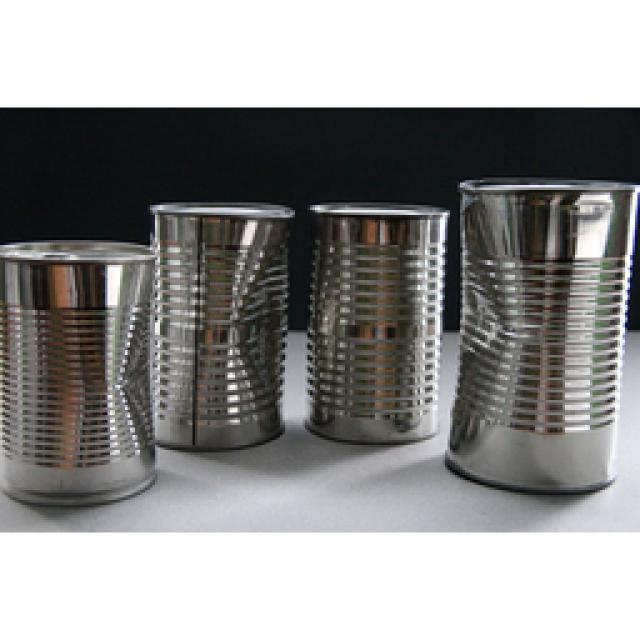alumunium: (0, 202, 292, 500), (448, 178, 638, 488), (305, 202, 448, 440)
